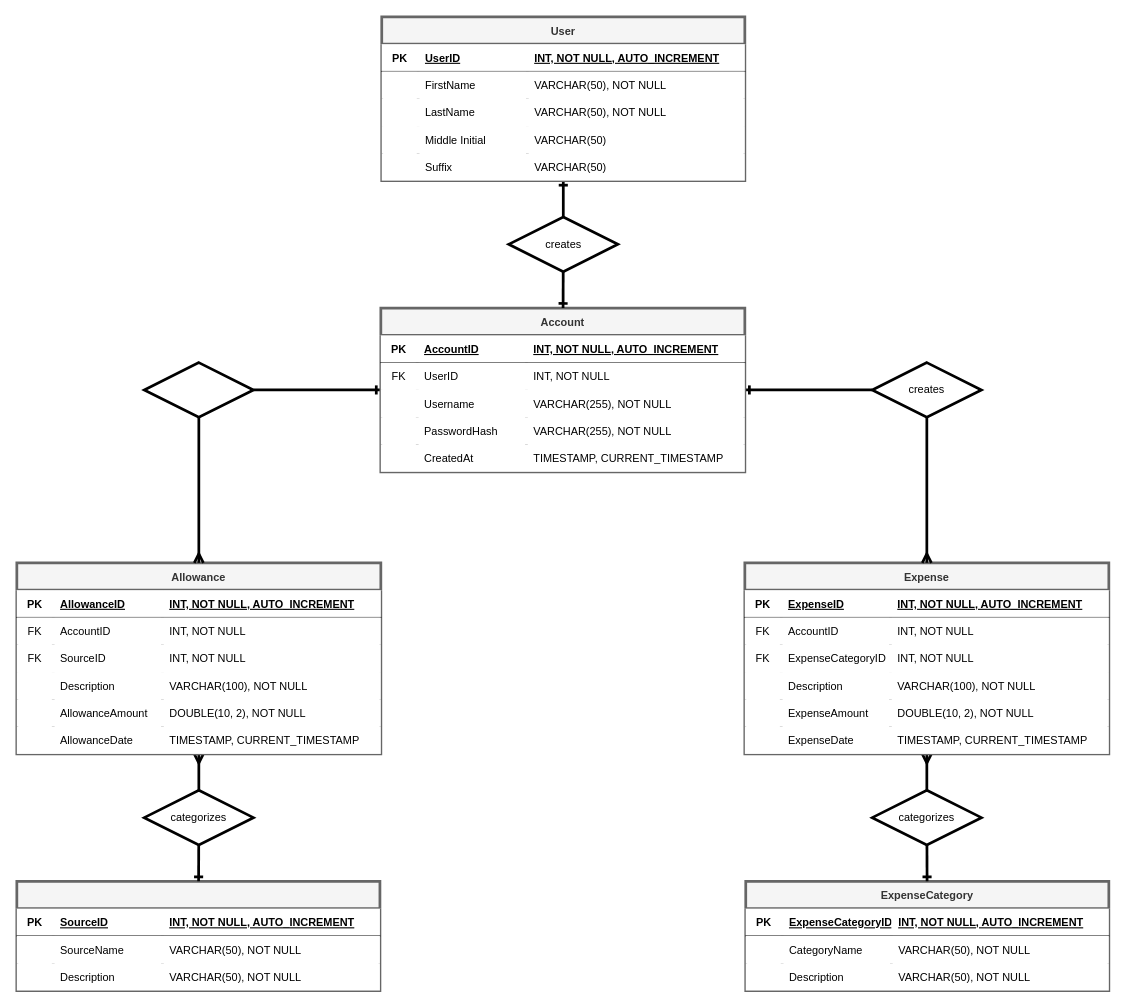
Image size: 1126x1007. Some labels were removed from this diagram. Each missing label, with the box of its shape:
AllowanceSource: (15, 880, 381, 991)
recieves: (142, 361, 254, 418)
